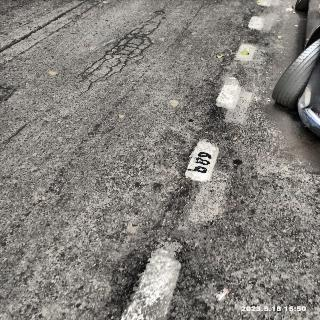alligator-crack: (73, 18, 165, 98)
crack: (2, 11, 68, 56), (8, 122, 29, 142), (69, 0, 103, 12)
pothole: (154, 10, 166, 16)
